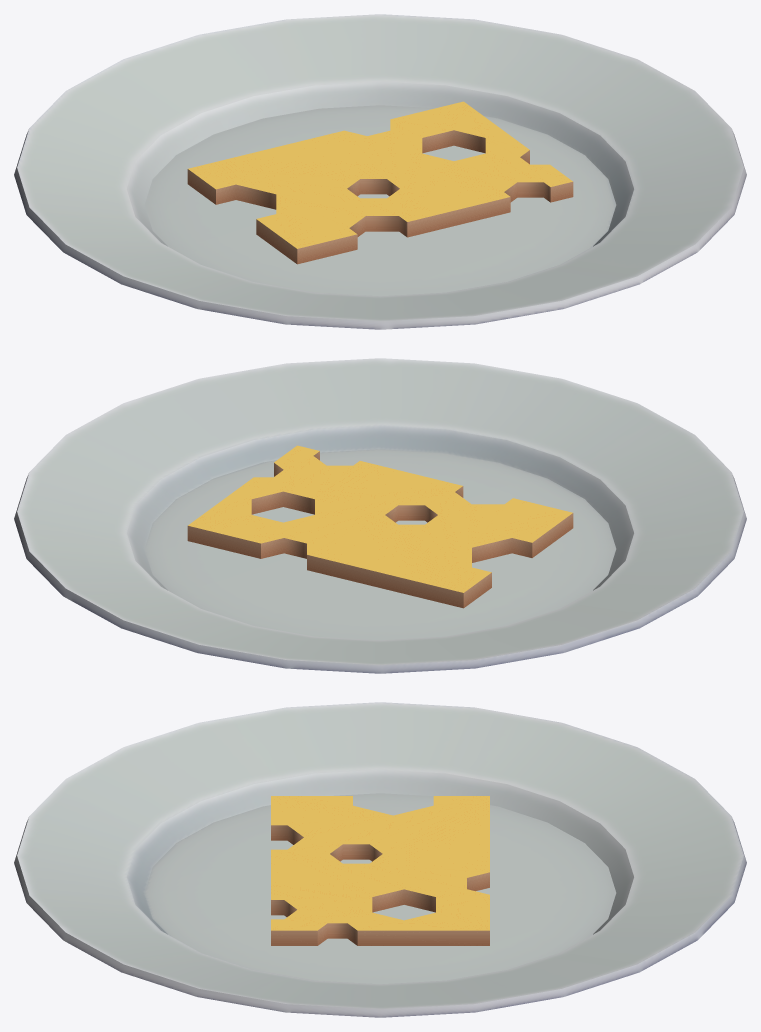
File: cheese-cut.glb
3 views of the same model, one above another, from view 1: azimuth 30°, elevation 25°; view 2: azimuth 150°, elevation 25°; view 3: azimuth 270°, elevation 25° (orthographic).
Visible parts, largest first — view 1: Object_5.005, cheese-cut; view 2: Object_5.005, cheese-cut; view 3: Object_5.005, cheese-cut.
Boxes of the visible parts, x1=… form: Object_5.005: x1=14, y1=14, x2=746, y2=329; cheese-cut: x1=187, y1=101, x2=573, y2=264; Object_5.005: x1=14, y1=358, x2=746, y2=673; cheese-cut: x1=187, y1=445, x2=573, y2=608; Object_5.005: x1=14, y1=702, x2=746, y2=1017; cheese-cut: x1=271, y1=796, x2=489, y2=945.
Bounding box in the file's own units: 1.5 × 0.1094 × 1.5.
2 materials, 2 textured.
